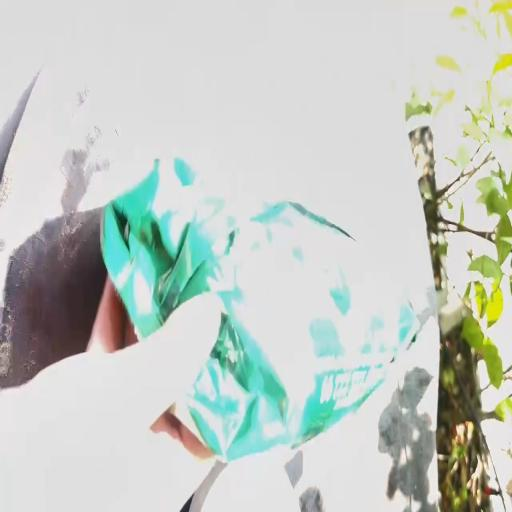cafe_xay: (101, 159, 419, 462)
